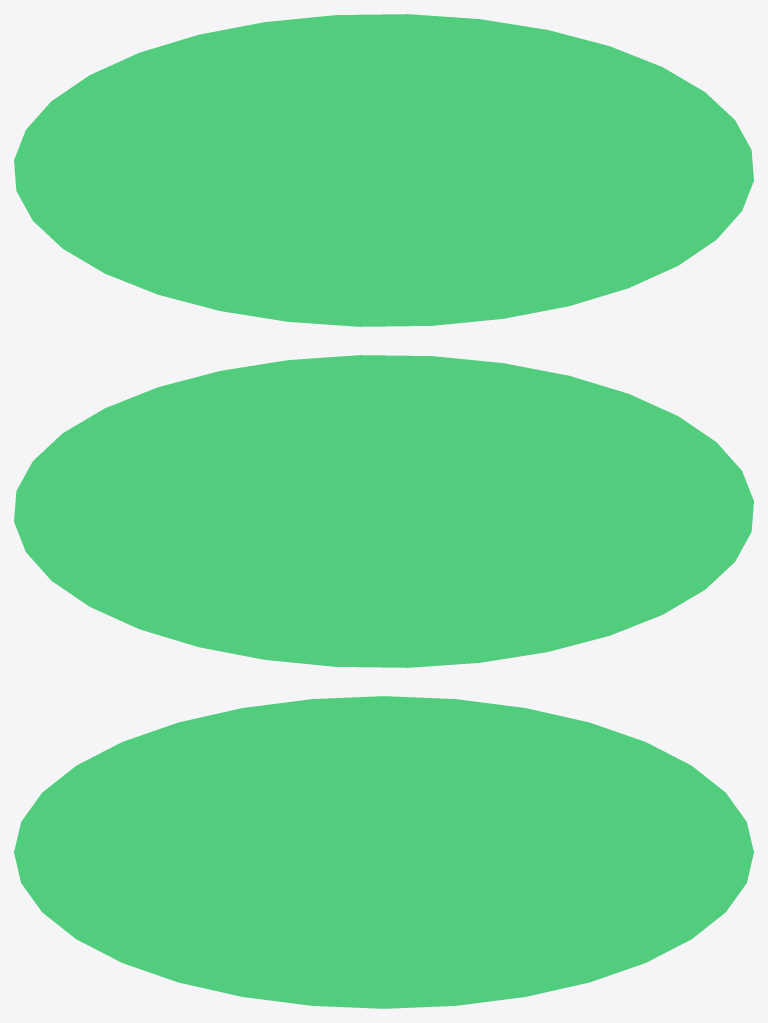
The model's file is Disk.gltf.
3 views of the same model, one above another, from view 1: azimuth 30°, elevation 25°; view 2: azimuth 150°, elevation 25°; view 3: azimuth 270°, elevation 25° (orthographic).
Parts seen in each view (by area): view 1: Circle; view 2: Circle; view 3: Circle.
Boxes of the visible parts, x1,y1,x2,y2 form: Circle: (14,14,753,326); Circle: (14,355,753,667); Circle: (14,696,753,1008).
Bounding box in the file's own units: 8.54 × 0 × 8.54.
